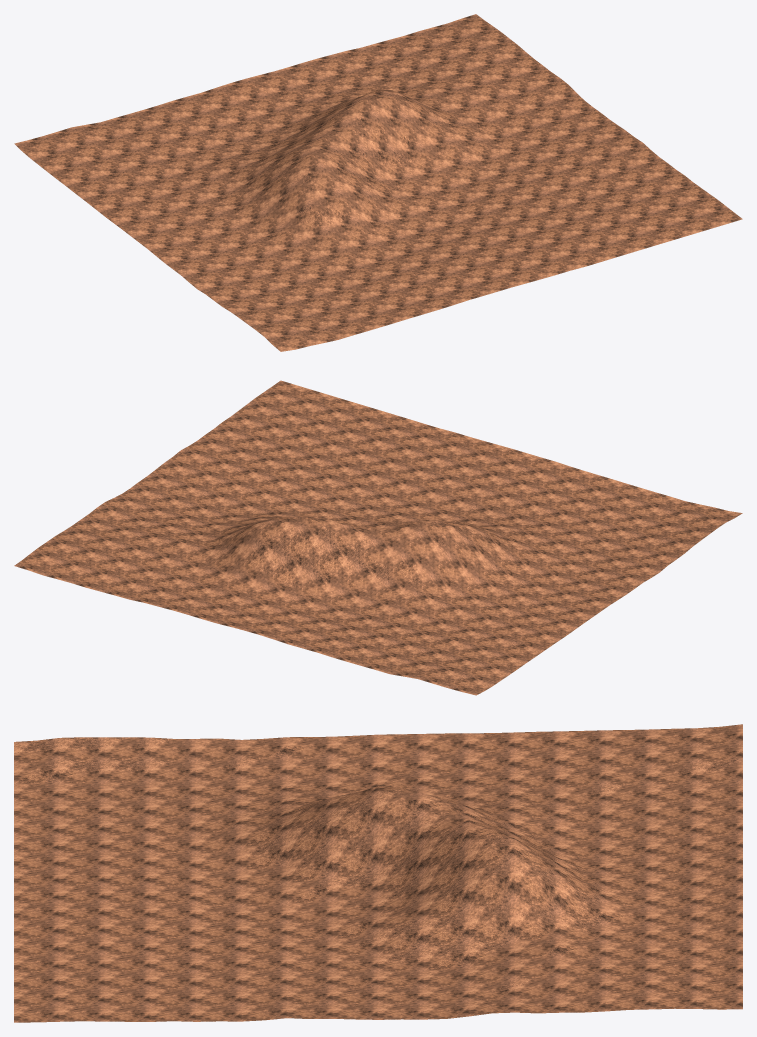
Rendered from terrain_05_09.dae.
3 views of the same model, one above another, from view 1: azimuth 30°, elevation 25°; view 2: azimuth 150°, elevation 25°; view 3: azimuth 270°, elevation 25° (orthographic). The views are drawn at different scales.
Parts seen in each view (by area): view 1: terrain_05_09-node; view 2: terrain_05_09-node; view 3: terrain_05_09-node.
Boxes of the visible parts, x1=… form: terrain_05_09-node: x1=14, y1=14, x2=742, y2=351; terrain_05_09-node: x1=14, y1=380, x2=742, y2=695; terrain_05_09-node: x1=14, y1=724, x2=742, y2=1022.
Size of the model in its own units: 128 by 128 by 16.45.
Materials: 1 (1 with a texture image).
